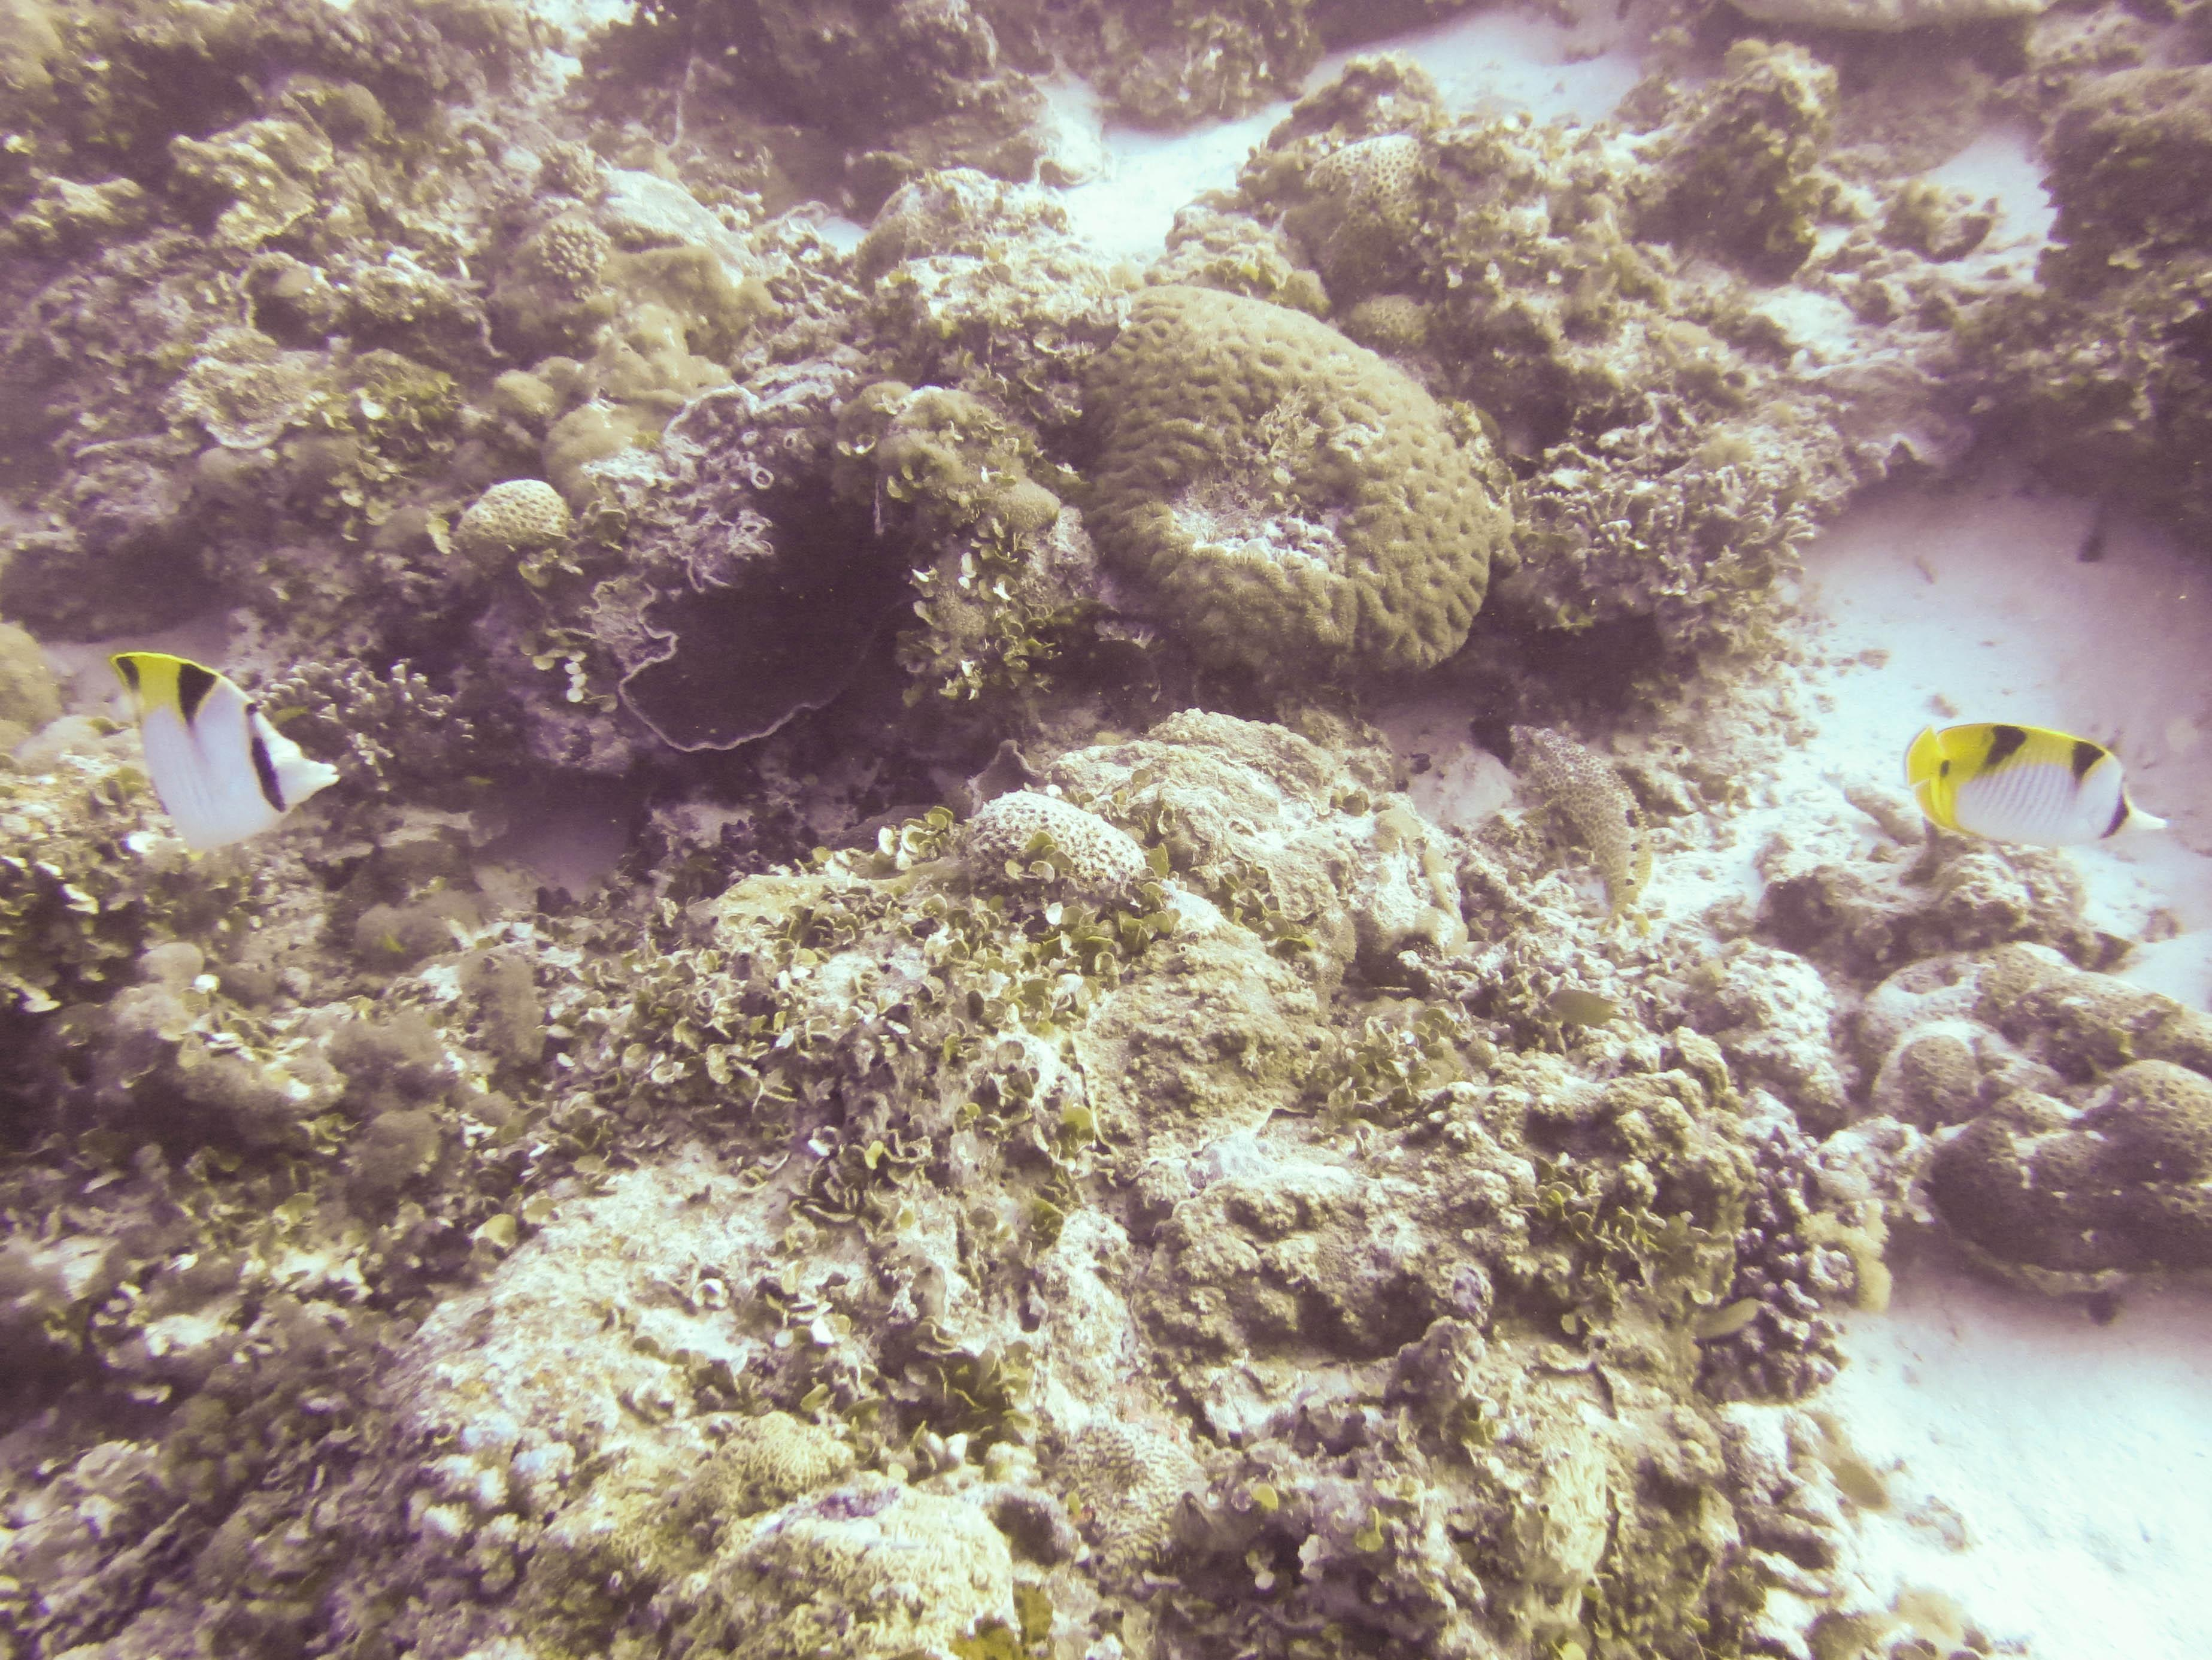Fish: (75, 617, 434, 933), (1876, 663, 2193, 922)
